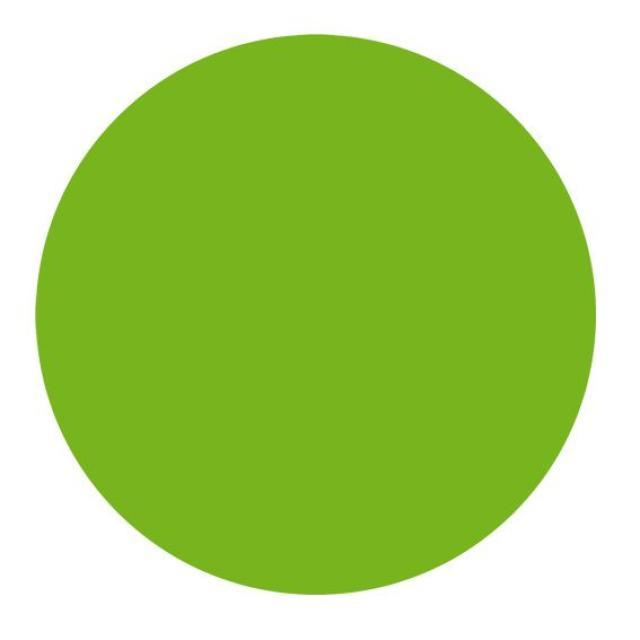Circle: (30, 33, 598, 598)
